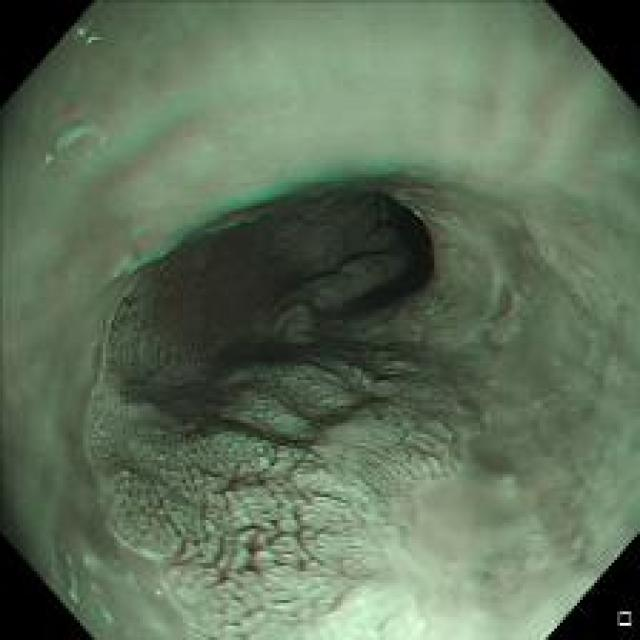color misalignment: (49, 542, 125, 630), (104, 238, 174, 280), (195, 192, 270, 230), (45, 110, 94, 156), (420, 220, 444, 289), (72, 16, 105, 52), (398, 179, 440, 196), (502, 284, 519, 320), (146, 582, 166, 600), (41, 151, 55, 169)
contrast: (171, 169, 464, 375)
